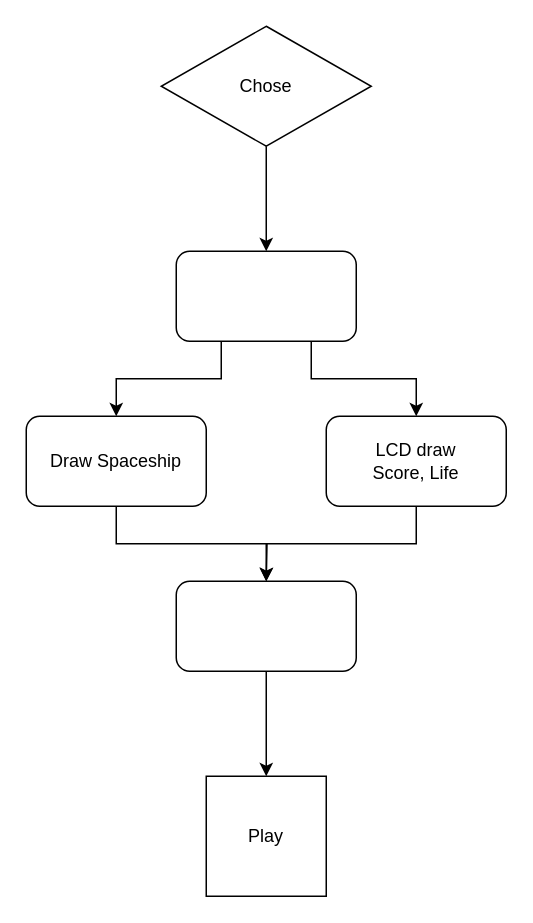
Image size: 533x923. Some labels were removed from this diagram. Each missing label, with the centre of its shape:
Draw Countdown: (x=265, y=625)
Draw Playing: (x=265, y=295)
